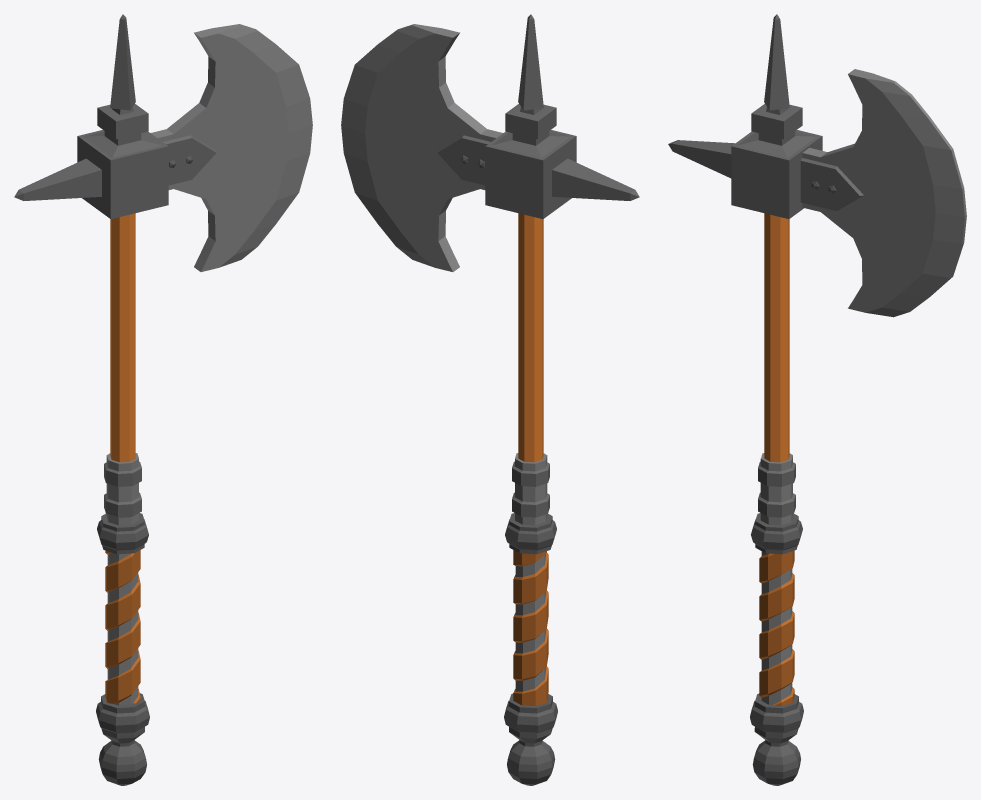
File: axe_1.fbx
The picture shows the model from 3 angles, left to right: view 1: azimuth 30°, elevation 25°; view 2: azimuth 150°, elevation 25°; view 3: azimuth 330°, elevation 25°; orthographic projection.
Visible parts, largest first — view 1: Axe; view 2: Axe; view 3: Axe.
Boxes of the visible parts, <box> form: Axe: <box>14,14,312,785</box>; Axe: <box>341,14,639,785</box>; Axe: <box>668,14,966,785</box>.
Size of the model in its own units: 71.34 by 176 by 13.83.
